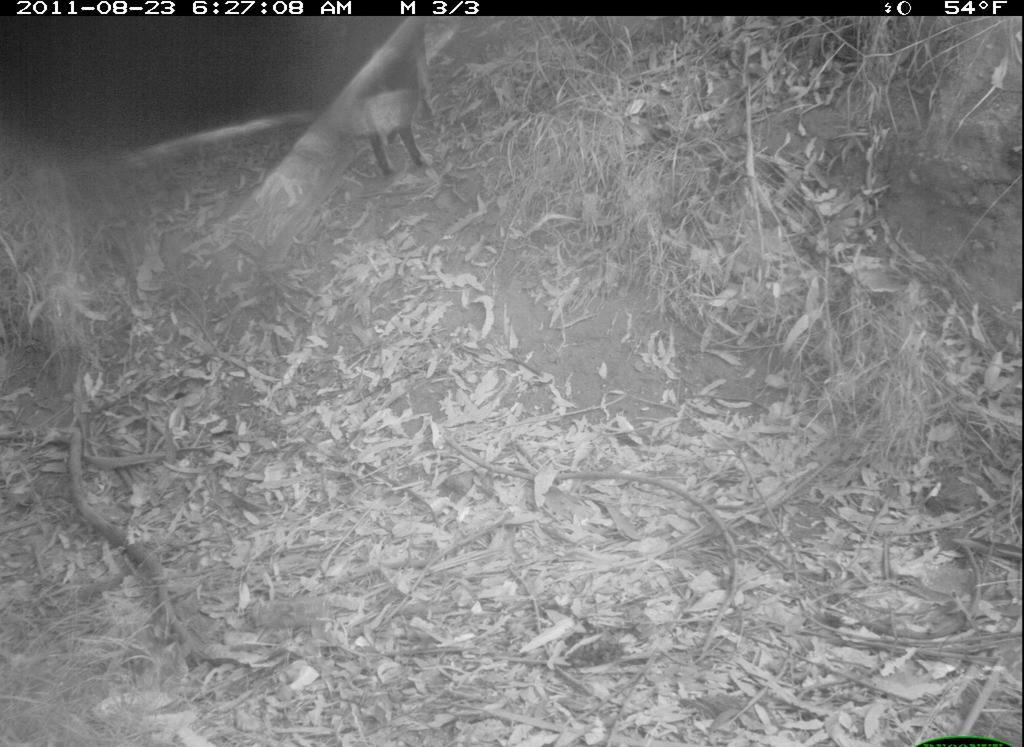dog: (338, 15, 450, 181)
